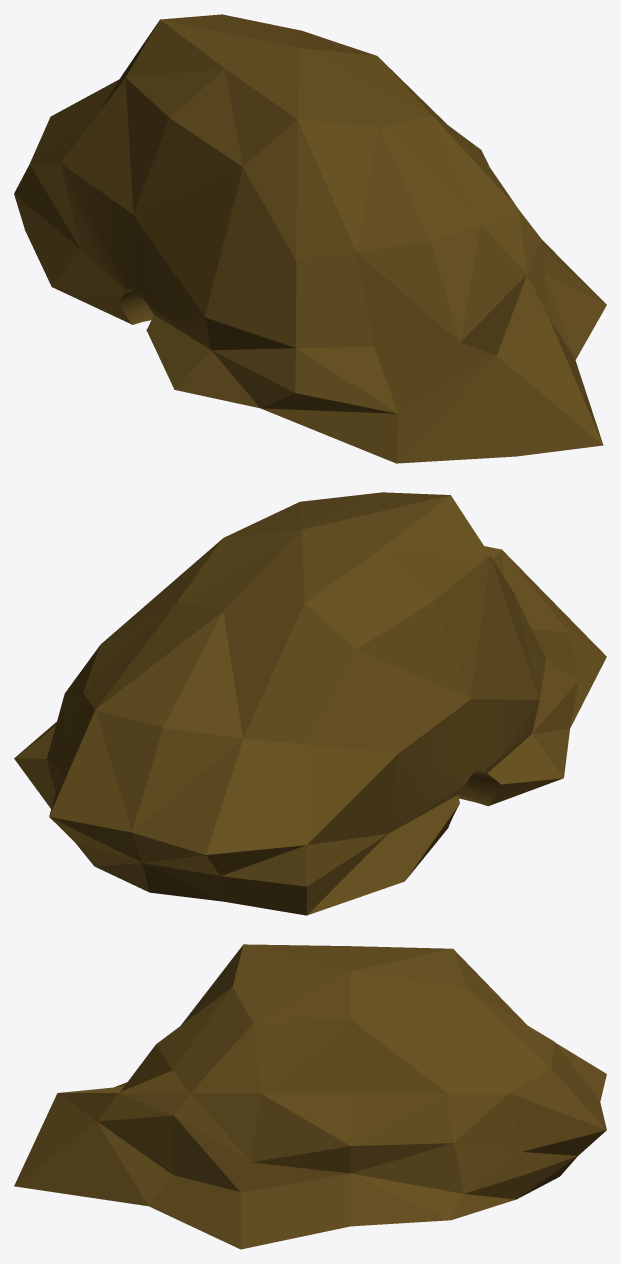
Rendered from low_poly_cave_01.fbx.
3 renders of one model, top to bottom at view 1: azimuth 30°, elevation 25°; view 2: azimuth 150°, elevation 25°; view 3: azimuth 270°, elevation 25°, orthographic. The views are drawn at different scales.
Visible parts, largest first — view 1: pCube5; view 2: pCube5; view 3: pCube5.
Boxes of the visible parts, x1=… form: pCube5: x1=14, y1=14, x2=606, y2=463; pCube5: x1=14, y1=492, x2=606, y2=915; pCube5: x1=14, y1=944, x2=606, y2=1249.
Bounding box in the file's own units: 12.36 × 7.22 × 20.06.
